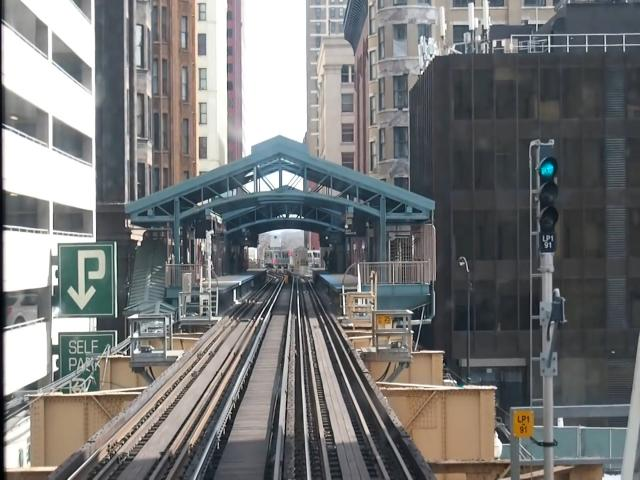signal light: (538, 144, 562, 256)
